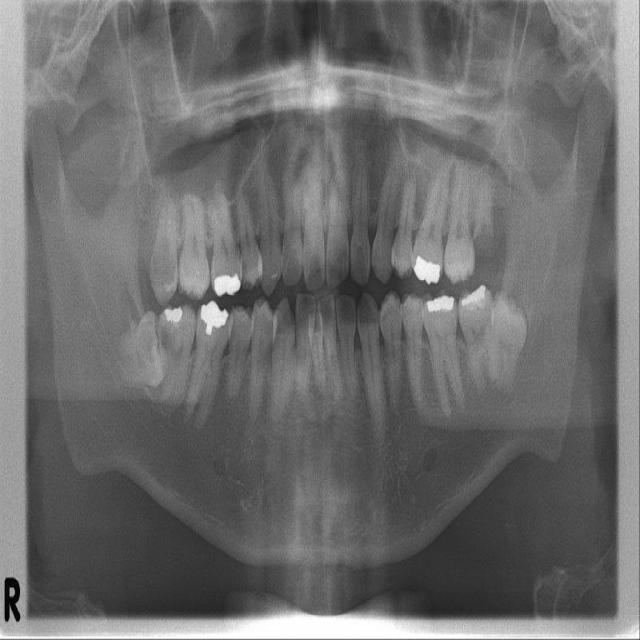3M ESPE Implant: (147, 206, 180, 305)
52: (193, 297, 233, 337), (407, 254, 444, 288), (459, 283, 493, 312), (426, 293, 457, 315), (213, 274, 242, 297), (164, 306, 184, 323)
73: (561, 550, 592, 580)
BioHorizons Implant: (441, 168, 485, 283)
BioLife Implant: (473, 174, 499, 238)
Biomet 3i Implant: (491, 290, 528, 385)
Blue Sky Bio Implant: (455, 286, 505, 383)
Caries: (176, 195, 216, 299)
Implant: (157, 305, 203, 411)
Keystone Dental Implant: (114, 311, 165, 391)
